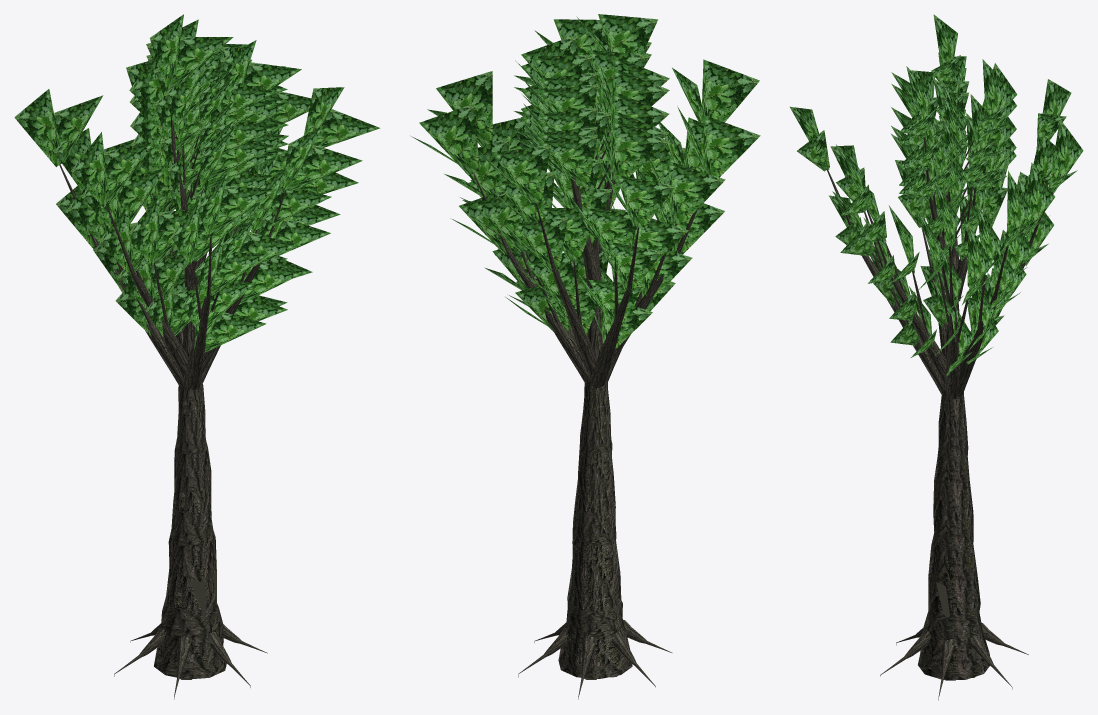
The model's file is tree_small.obj.
3 renders of one model, left to right at view 1: azimuth 30°, elevation 25°; view 2: azimuth 150°, elevation 25°; view 3: azimuth 270°, elevation 25°, orthographic. The views are drawn at different scales.
Parts seen in each view (by area): view 1: tree_small; view 2: tree_small; view 3: tree_small.
Part boxes in pixels (x1,y1,x2,y2): tree_small: (14,14,380,699); tree_small: (411,14,760,699); tree_small: (790,14,1083,700).
Bounding box in the file's own units: 14.74 × 28.64 × 12.06.
2 materials, 2 textured.
